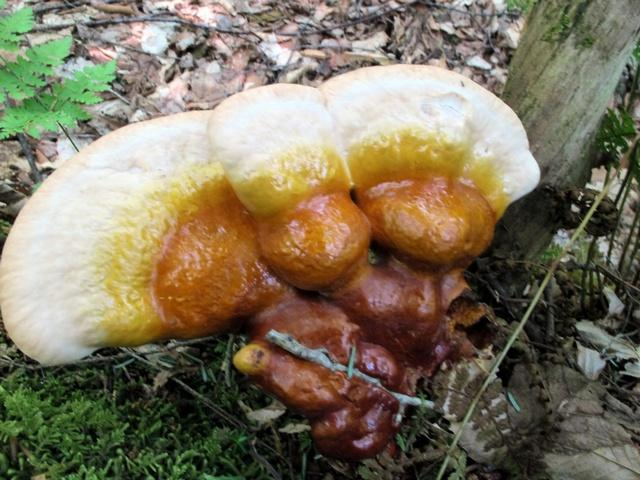poisonous_mushroom: (0, 61, 541, 459)
